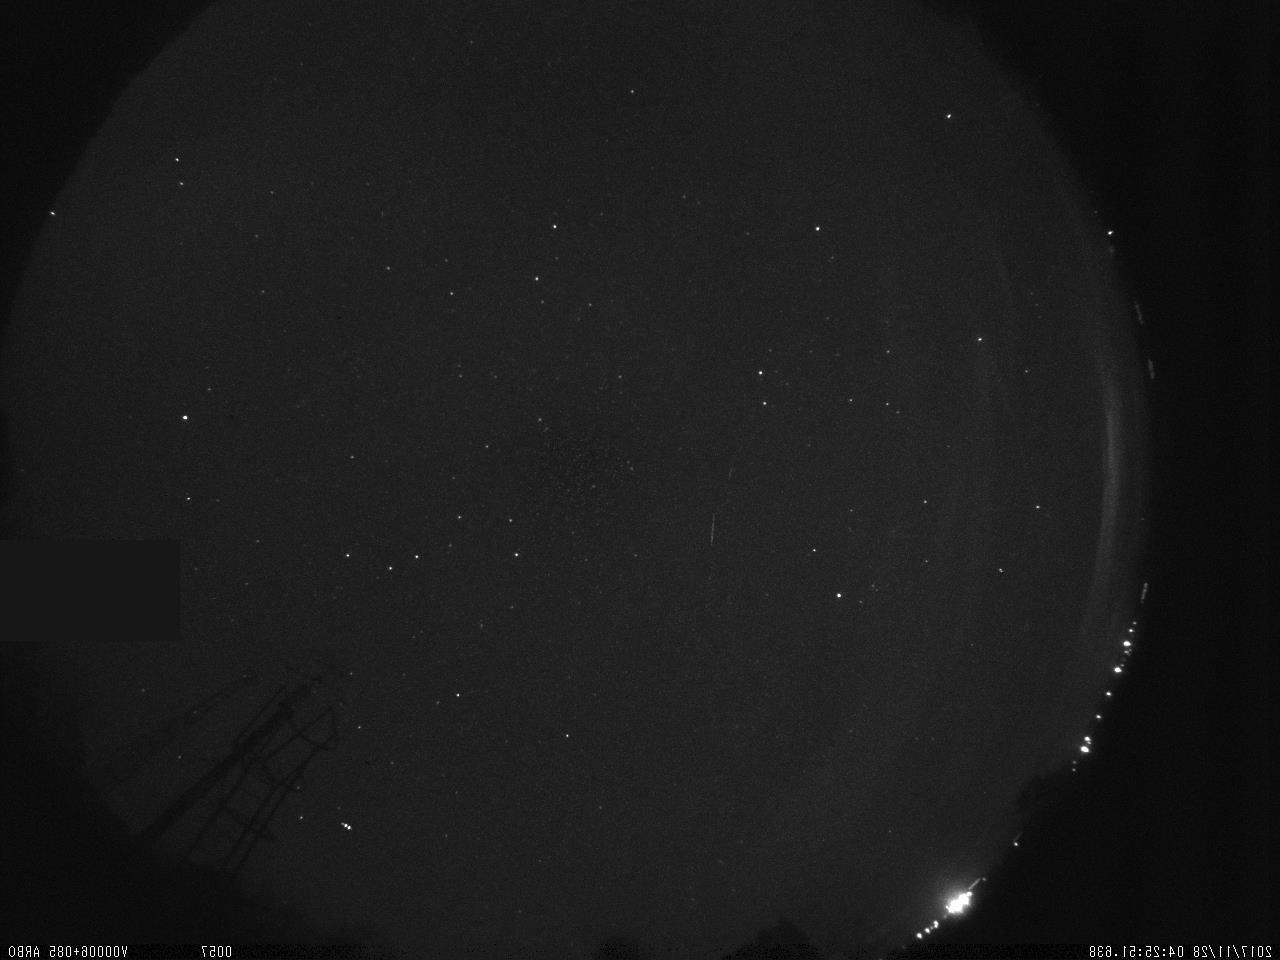meteor: (699, 509, 726, 551)
